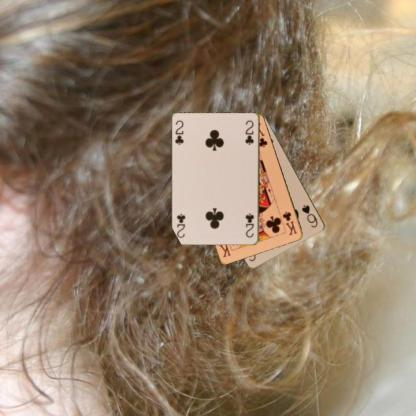2c: (243, 211, 255, 239), (173, 118, 185, 146)
6s: (299, 202, 319, 229)
Kc: (280, 209, 298, 236)
